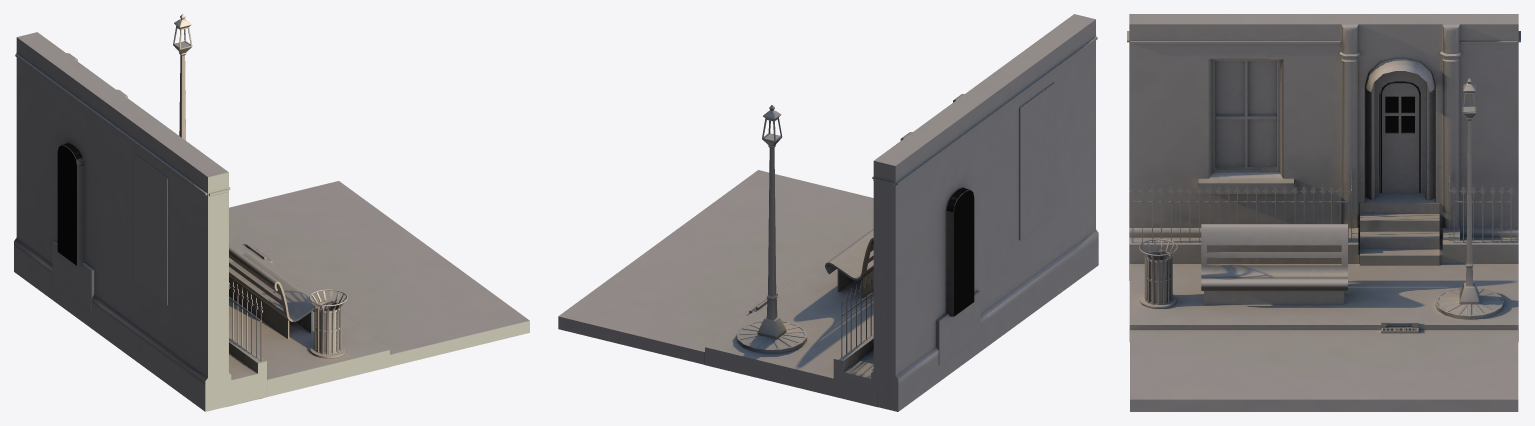
3 renders of one model, left to right at view 1: azimuth 30°, elevation 25°; view 2: azimuth 150°, elevation 25°; view 3: azimuth 270°, elevation 25°, orthographic. The views are drawn at different scales.
Visible parts, largest first — view 1: Maison_mur_1, Route_1, Trottoir_1, Votre_fenetre__1, Banc_1, Poubelle_fer_1, Lampadaire_1, Barriere_1, Poubelle_conteneur_1; view 2: Maison_mur_1, Route_1, Trottoir_1, Votre_fenetre__1, Lampadaire_1, Banc_1, Lampadaire_socle_1, Barriere_1; view 3: Maison_mur_1, Route_1, Trottoir_1, Banc_1, Votre_fenetre__1, Barriere_1, Porte_1, Lampadaire_1, Poubelle_fer_1, Lampadaire_socle_1, Poubelle_conteneur_1, Fenetre_1 (+1 smaller).
Boxes of the visible parts, <box> form: Maison_mur_1: <box>14,32,266,411</box>; Route_1: <box>229,181,529,366</box>; Trottoir_1: <box>225,232,389,407</box>; Votre_fenetre__1: <box>134,154,167,305</box>; Banc_1: <box>229,245,318,338</box>; Poubelle_fer_1: <box>309,289,347,358</box>; Lampadaire_1: <box>173,14,192,140</box>; Barriere_1: <box>229,281,262,398</box>; Poubelle_conteneur_1: <box>316,301,339,352</box>; Maison_mur_1: <box>833,14,1098,411</box>; Route_1: <box>558,170,897,411</box>; Trottoir_1: <box>705,224,877,407</box>; Votre_fenetre__1: <box>1019,82,1055,240</box>; Lampadaire_1: <box>757,105,786,339</box>; Banc_1: <box>825,229,873,297</box>; Lampadaire_socle_1: <box>736,320,806,353</box>; Barriere_1: <box>840,273,872,356</box>; Maison_mur_1: <box>1127,14,1520,280</box>; Route_1: <box>1130,330,1518,411</box>; Trottoir_1: <box>1129,264,1518,341</box>; Banc_1: <box>1201,224,1347,304</box>; Votre_fenetre__1: <box>1215,61,1276,166</box>; Barriere_1: <box>1129,169,1514,242</box>; Porte_1: <box>1382,82,1419,193</box>; Lampadaire_1: <box>1459,78,1479,304</box>; Poubelle_fer_1: <box>1139,239,1177,308</box>; Lampadaire_socle_1: <box>1435,287,1503,319</box>; Poubelle_conteneur_1: <box>1146,251,1170,302</box>; Fenetre_1: <box>1215,61,1276,168</box>.
Bounding box in the file's own units: 584 × 413 × 594.
13 materials, 13 textured.
